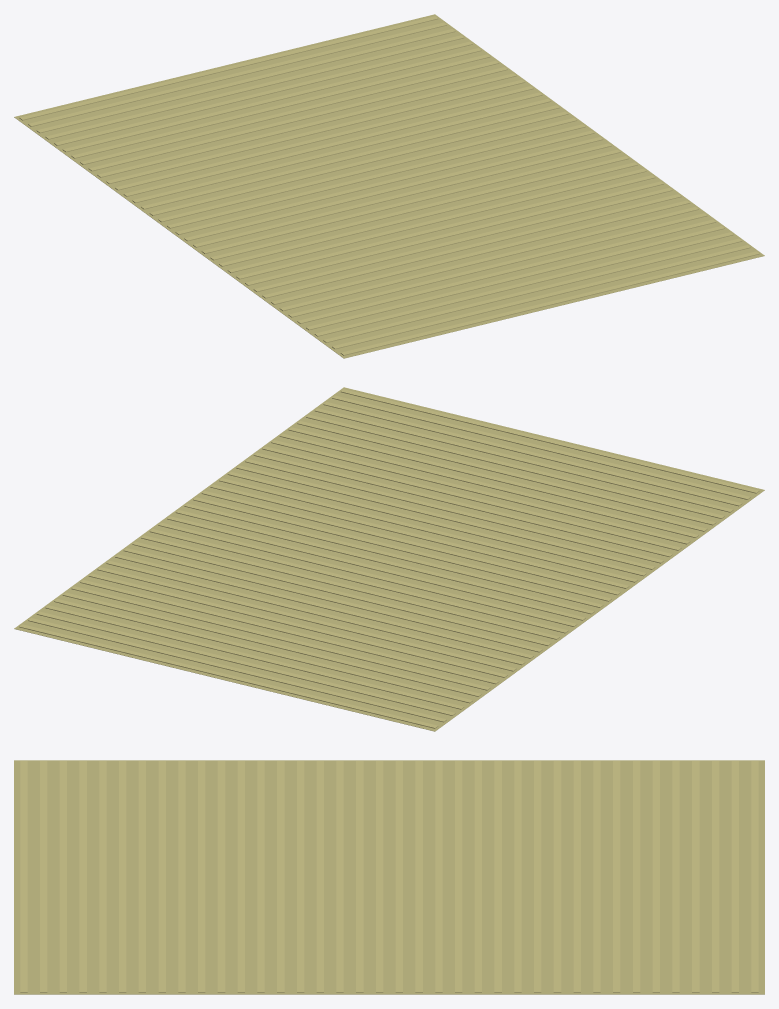
File: crop-1.glb
3 renders of one model, top to bottom at view 1: azimuth 30°, elevation 25°; view 2: azimuth 150°, elevation 25°; view 3: azimuth 270°, elevation 25°, orthographic. The views are drawn at different scales.
Size of the model in its own units: 56 by 0.125 by 76.
